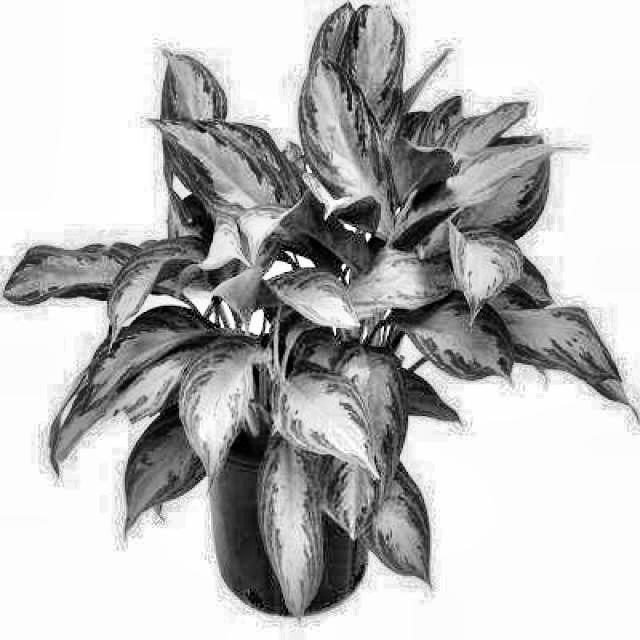plants: (33, 44, 584, 614)
